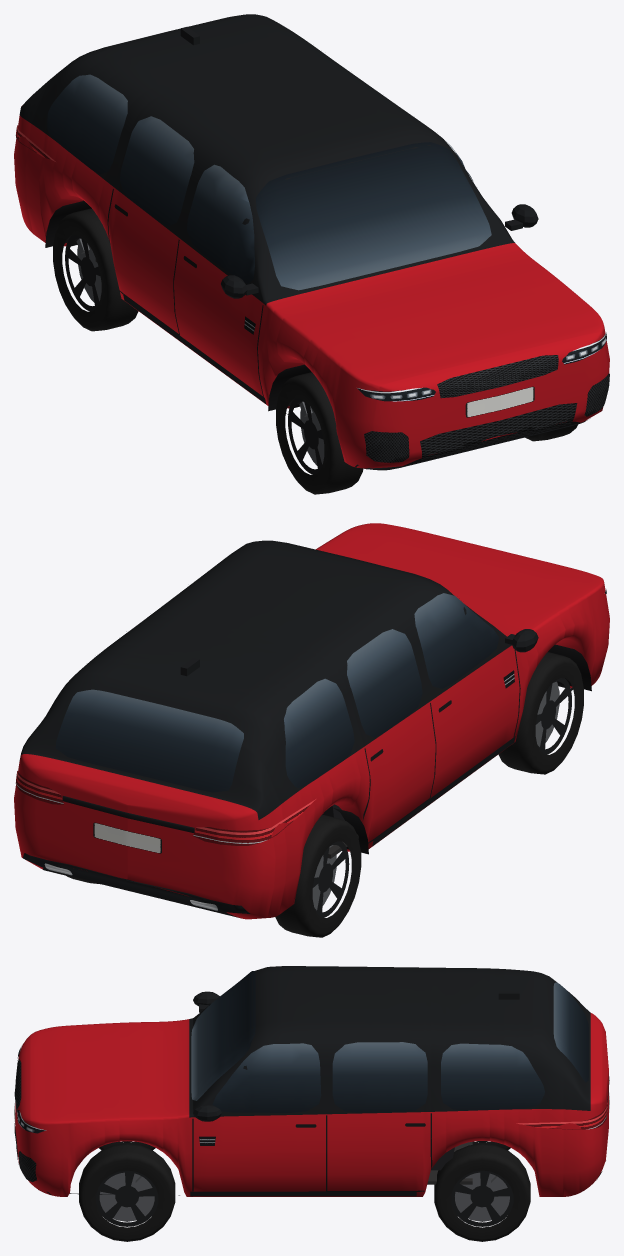
File: lamane.glb
3 renders of one model, top to bottom at view 1: azimuth 30°, elevation 25°; view 2: azimuth 150°, elevation 25°; view 3: azimuth 270°, elevation 25°, orthographic. The views are drawn at different scales.
Parts seen in each view (by area): view 1: body, wheel_rr, wheel_fr, door; view 2: body, wheel_rr, wheel_fr; view 3: body, door, wheel_fl, wheel_rl, cabin.
Part boxes in pixels (bbox=[...]): body: bbox=[14, 14, 609, 470]; wheel_rr: bbox=[53, 208, 138, 331]; wheel_fr: bbox=[276, 372, 363, 494]; door: bbox=[391, 104, 512, 243]; body: bbox=[14, 523, 609, 919]; wheel_rr: bbox=[275, 815, 361, 937]; wheel_fr: bbox=[498, 652, 583, 774]; body: bbox=[14, 966, 609, 1196]; door: bbox=[192, 1033, 327, 1175]; wheel_fl: bbox=[79, 1143, 175, 1241]; wheel_rl: bbox=[434, 1143, 530, 1241]; cabin: bbox=[427, 1141, 472, 1184].
Bounding box in the file's own units: 2.35 × 1.83 × 4.9.
Materials: 2 (1 with a texture image).
